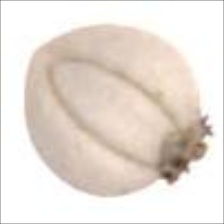L5: (47, 56, 179, 165), (157, 110, 214, 187)
L6: (21, 22, 216, 202)
